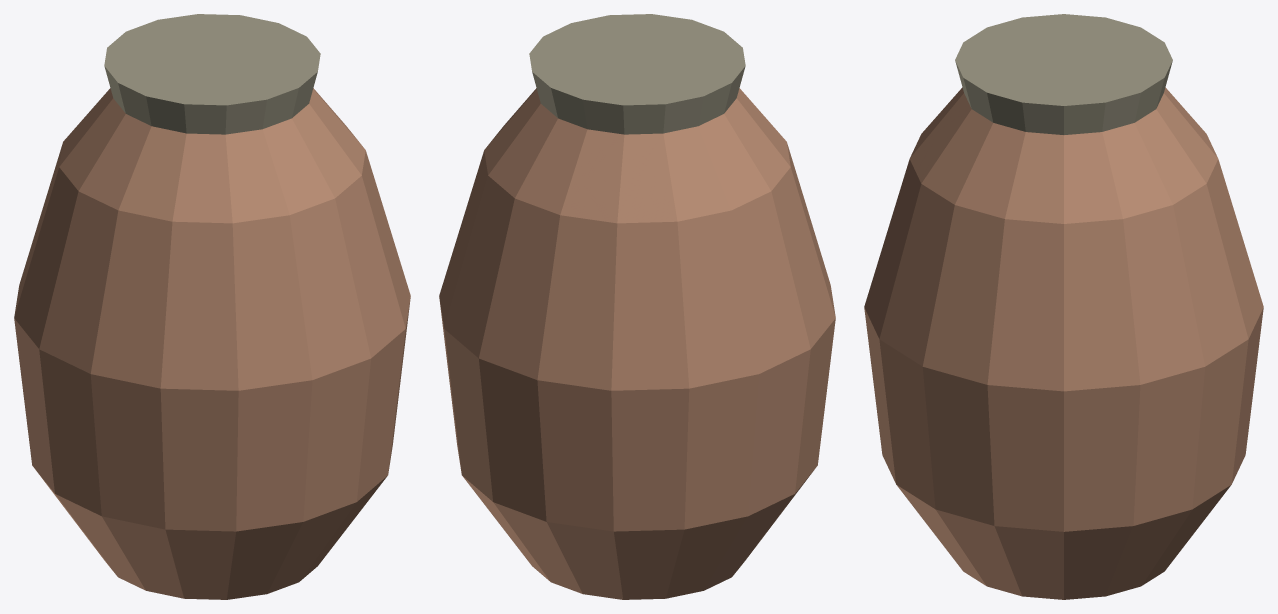
Rendered from pottery_storage_jar.glb.
3 renders of one model, left to right at view 1: azimuth 30°, elevation 25°; view 2: azimuth 150°, elevation 25°; view 3: azimuth 270°, elevation 25°, orthographic.
Visible parts, largest first — view 1: pottery_storage_jar; view 2: pottery_storage_jar; view 3: pottery_storage_jar.
Part boxes in pixels (x1,y1,x2,y2): pottery_storage_jar: (14, 14, 410, 599); pottery_storage_jar: (439, 14, 835, 599); pottery_storage_jar: (864, 14, 1263, 599).
Size of the model in its own units: 0.44 by 0.6 by 0.44.
